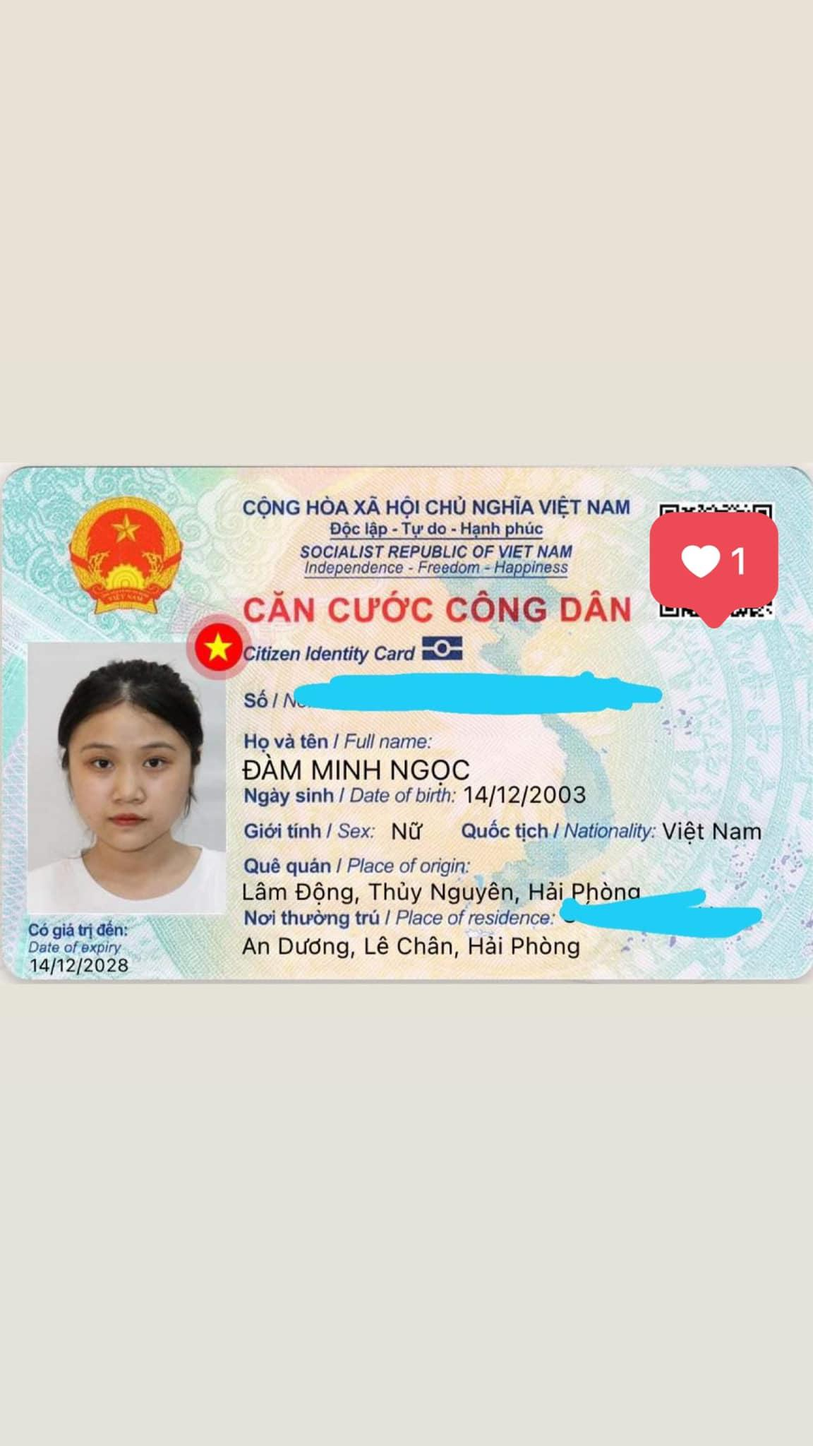bottom_left: (0, 943, 25, 988)
bottom_right: (779, 953, 813, 993)
image_person: (33, 648, 230, 914)
top_left: (0, 451, 28, 495)
top_right: (784, 458, 813, 495)
